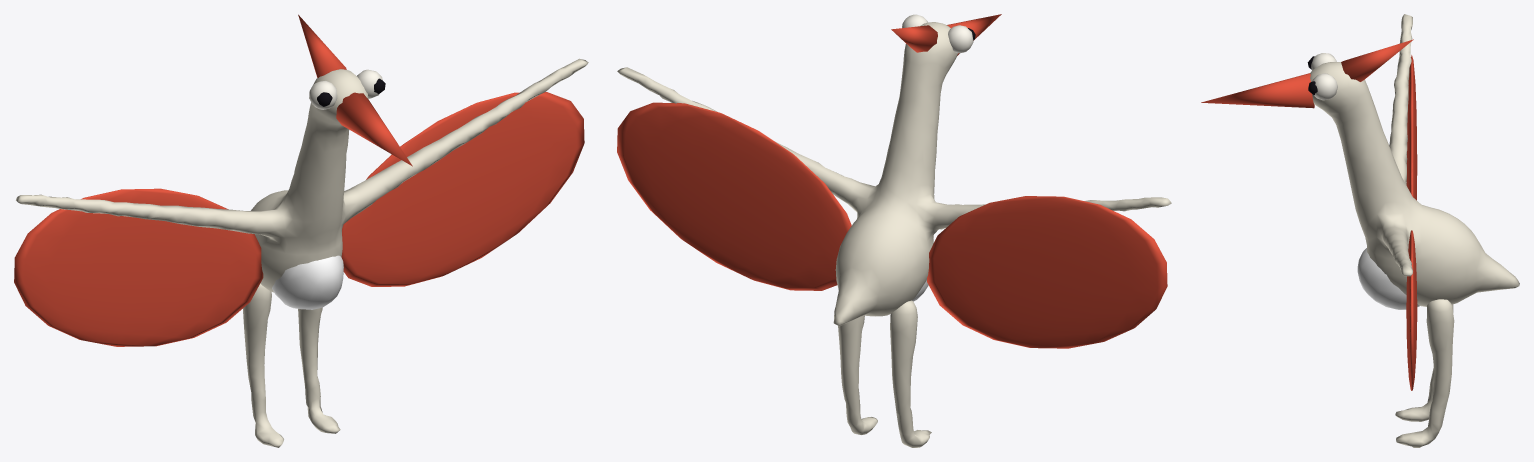
The model's file is Dino_Quetzalcoatlus.fbx.
The picture shows the model from 3 angles, left to right: view 1: azimuth 30°, elevation 25°; view 2: azimuth 150°, elevation 25°; view 3: azimuth 270°, elevation 25°; orthographic projection. The views are drawn at different scales.
Visible parts, largest first — view 1: Accent, Body, LegL, Belly, LegR, EyeWhite; view 2: Accent, Body, LegL, LegR, EyeWhite; view 3: Body, Accent, LegR, Belly, EyeWhite, LegL.
Part boxes in pixels (x1,y1,x2,y2): Accent: [14, 14, 584, 346]; Body: [16, 58, 588, 292]; LegL: [243, 283, 283, 447]; Belly: [272, 255, 343, 309]; LegR: [298, 307, 340, 433]; EyeWhite: [309, 69, 382, 109]; Accent: [617, 14, 1167, 348]; Body: [617, 22, 1171, 326]; LegL: [890, 300, 931, 447]; LegR: [838, 315, 877, 434]; EyeWhite: [902, 14, 973, 53]; Body: [1310, 14, 1519, 306]; Accent: [1201, 39, 1417, 390]; LegR: [1396, 299, 1454, 447]; Belly: [1357, 248, 1419, 309]; EyeWhite: [1311, 53, 1337, 100]; LegL: [1395, 304, 1453, 421].
Size of the model in its own units: 6.77 by 4.8 by 3.53.
